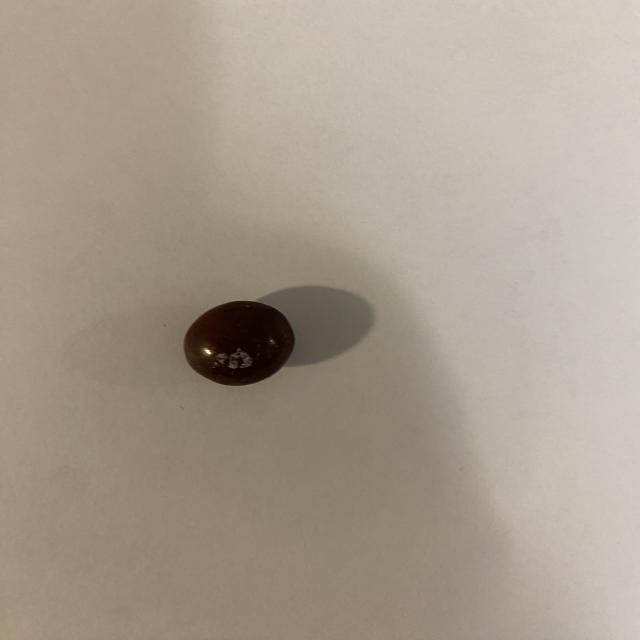smartie: (183, 301, 294, 386)
